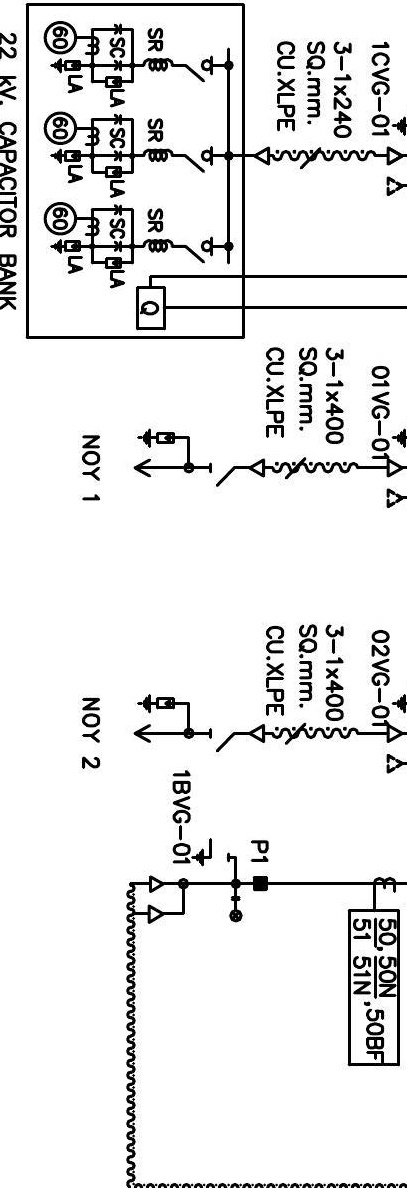22_cap_bank: (25, 2, 246, 340)
22_ds_la_out: (133, 428, 235, 488), (133, 694, 235, 754)
22_gs: (191, 837, 231, 867)
22_ll: (228, 895, 244, 923)
Q: (135, 285, 166, 331)
terminator_double: (147, 874, 186, 925)
terminator_single: (253, 146, 271, 167), (248, 458, 266, 478), (249, 724, 266, 744)
